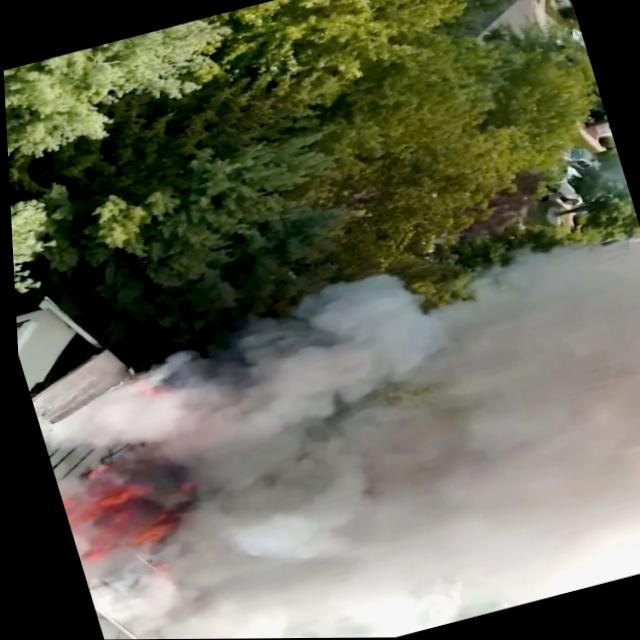smoke: (166, 282, 628, 639), (247, 318, 537, 639), (494, 229, 640, 566)
